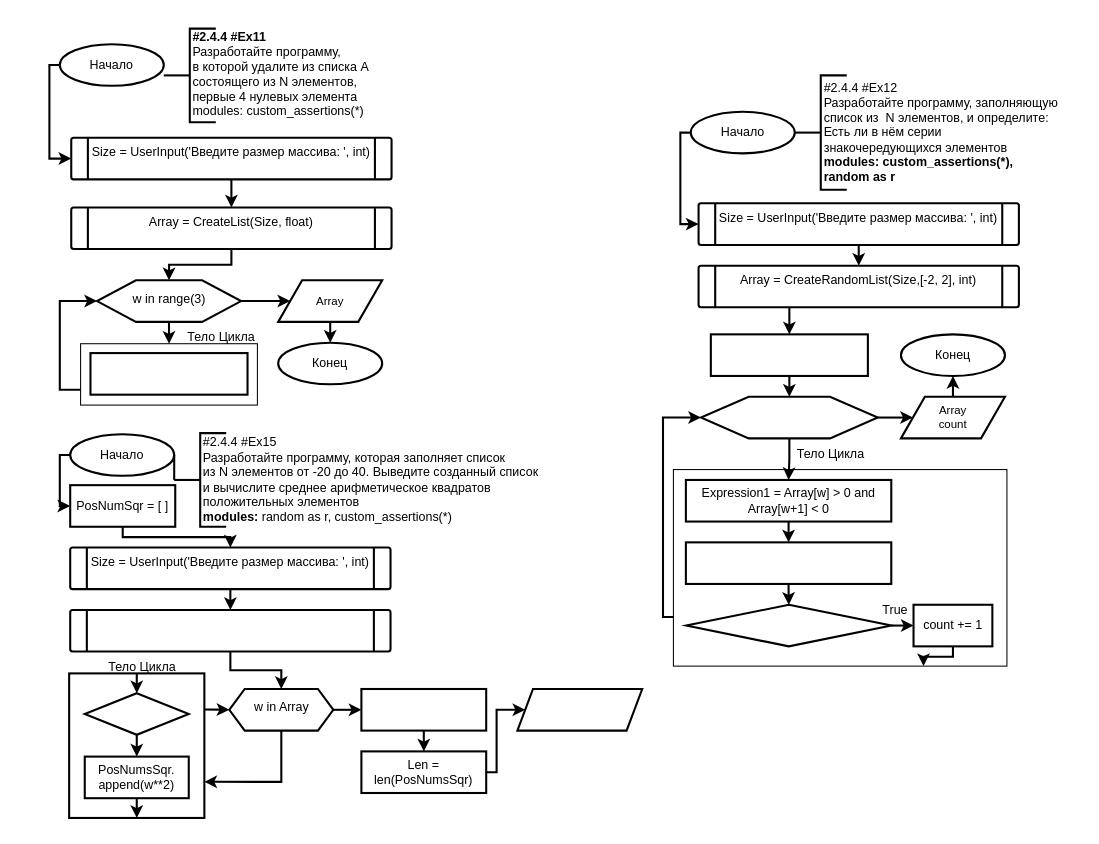
This 1099x844 diagram has some shape labels left out. Each missing label, with the box of its shape:
Array = CreateRandomList(Size, [-10, 10], float): (69, 608, 391, 652)
Array round(Sum/Len, 2): (516, 687, 643, 731)
Array.remove(0): (89, 352, 248, 395)
count = 0: (709, 333, 868, 376)
Expression1 or Expression2: (685, 603, 892, 647)
Expression2 = Array[w] < 0 and Array[w+1] > 0: (684, 541, 892, 584)
Sum = sum(PosNumsSqr): (360, 687, 487, 731)
w > 0: (83, 692, 189, 735)
w in range(len(Array - 1): (699, 395, 878, 439)
